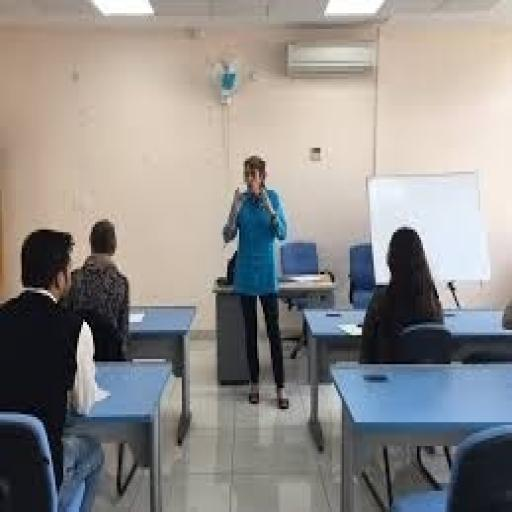sitting: (0, 213, 132, 509)
